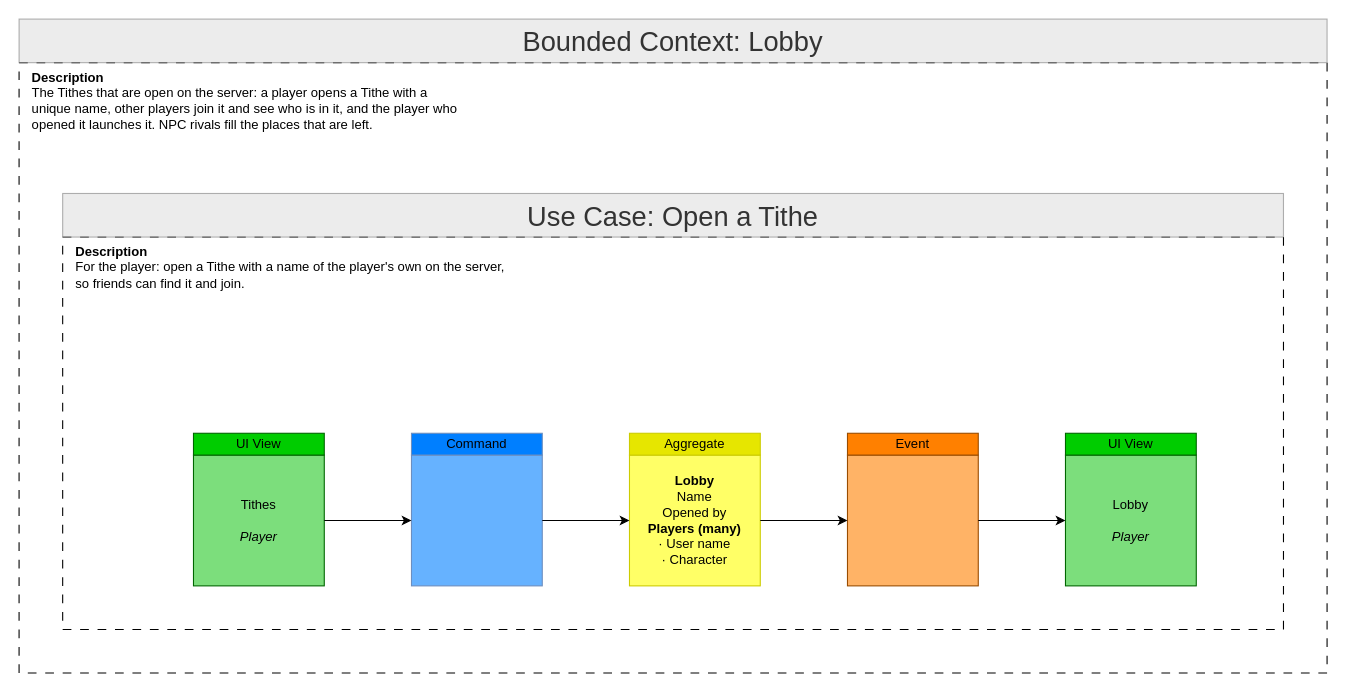
Image size: 1346x692. Some labels were removed from this diagram. The shapes that lost their labels are listed below. From the top down, each one's box as (x1, y1, x2, y2) in pixels, then its label:
(410, 454, 542, 586): Open a Tithe Name
(846, 454, 978, 586): Tithe opened
